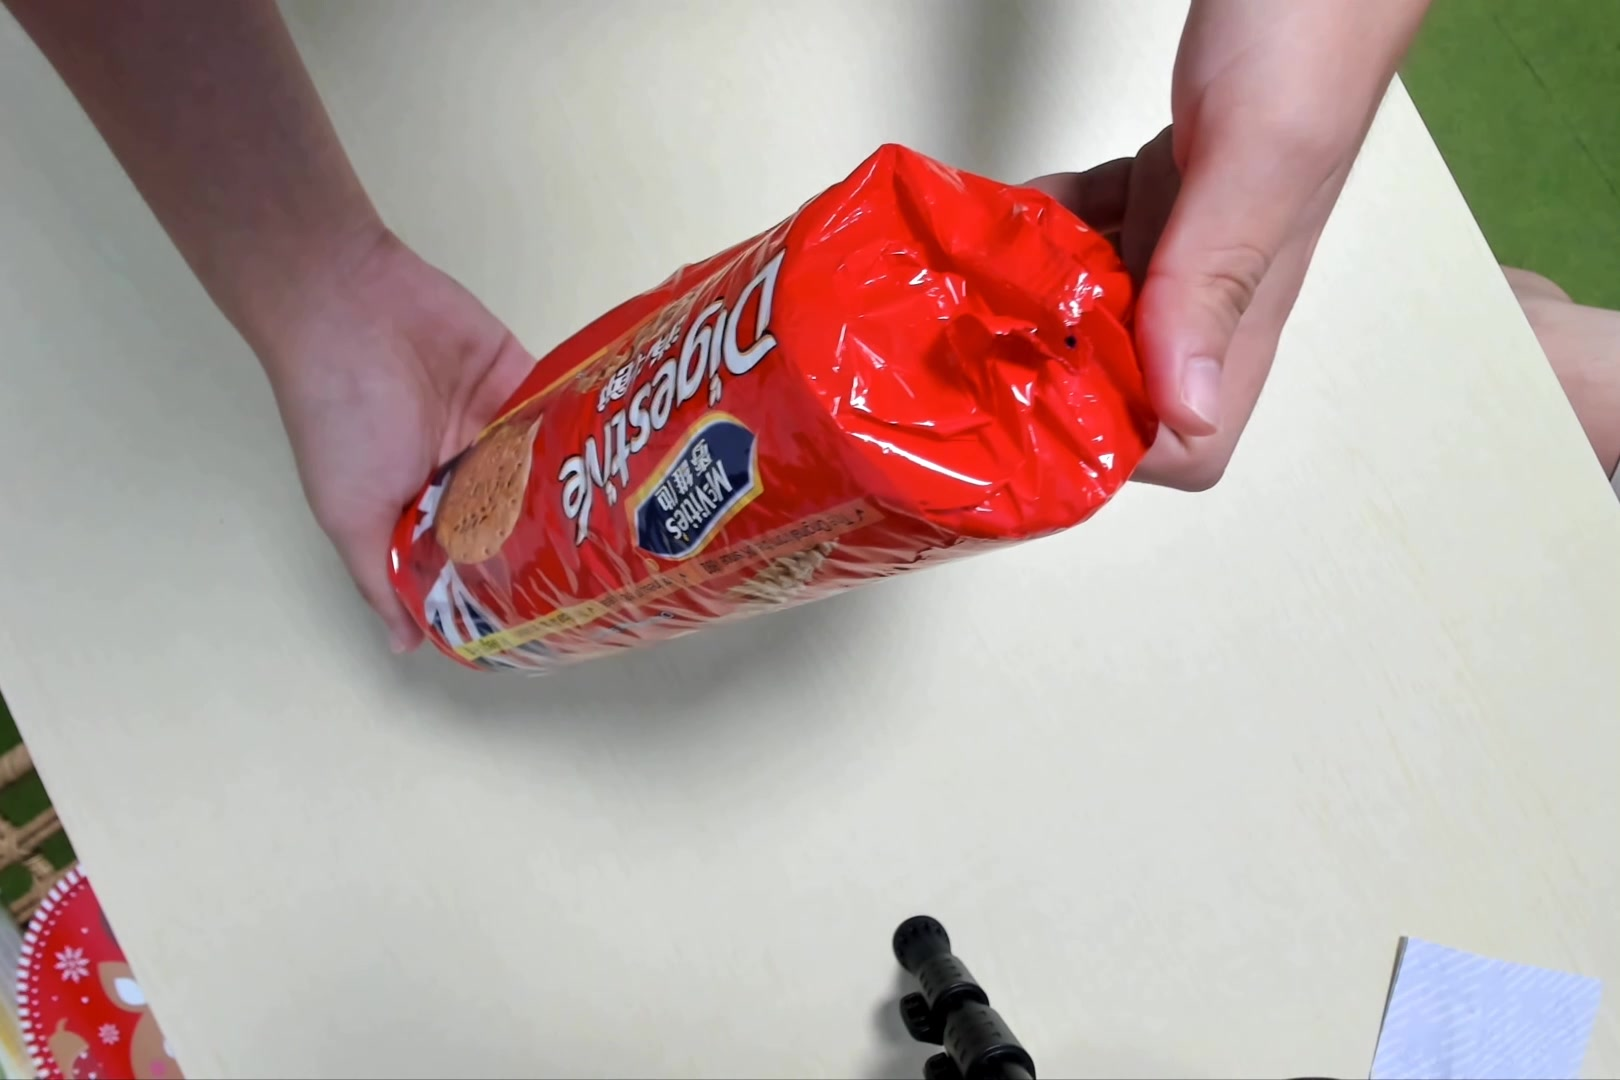BiscuitsCrackersCookies_400-499g_NonHalal_NonHealthy: (391, 142, 1154, 693)
